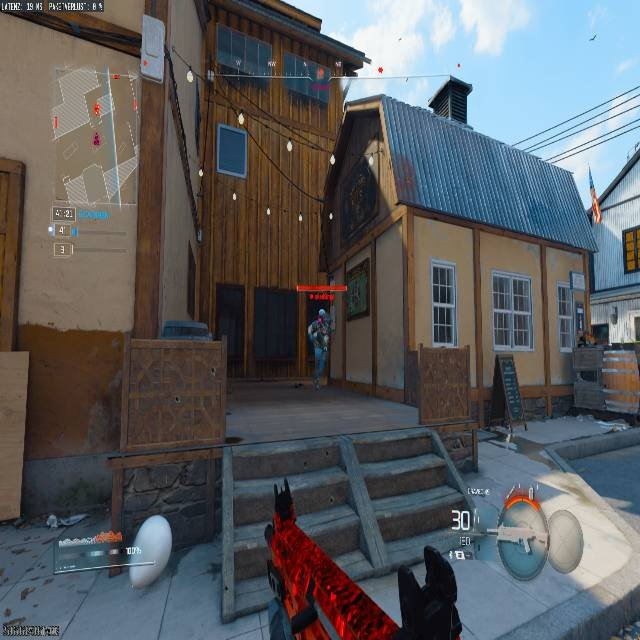head: (317, 308, 326, 320)
player: (308, 308, 332, 390)
